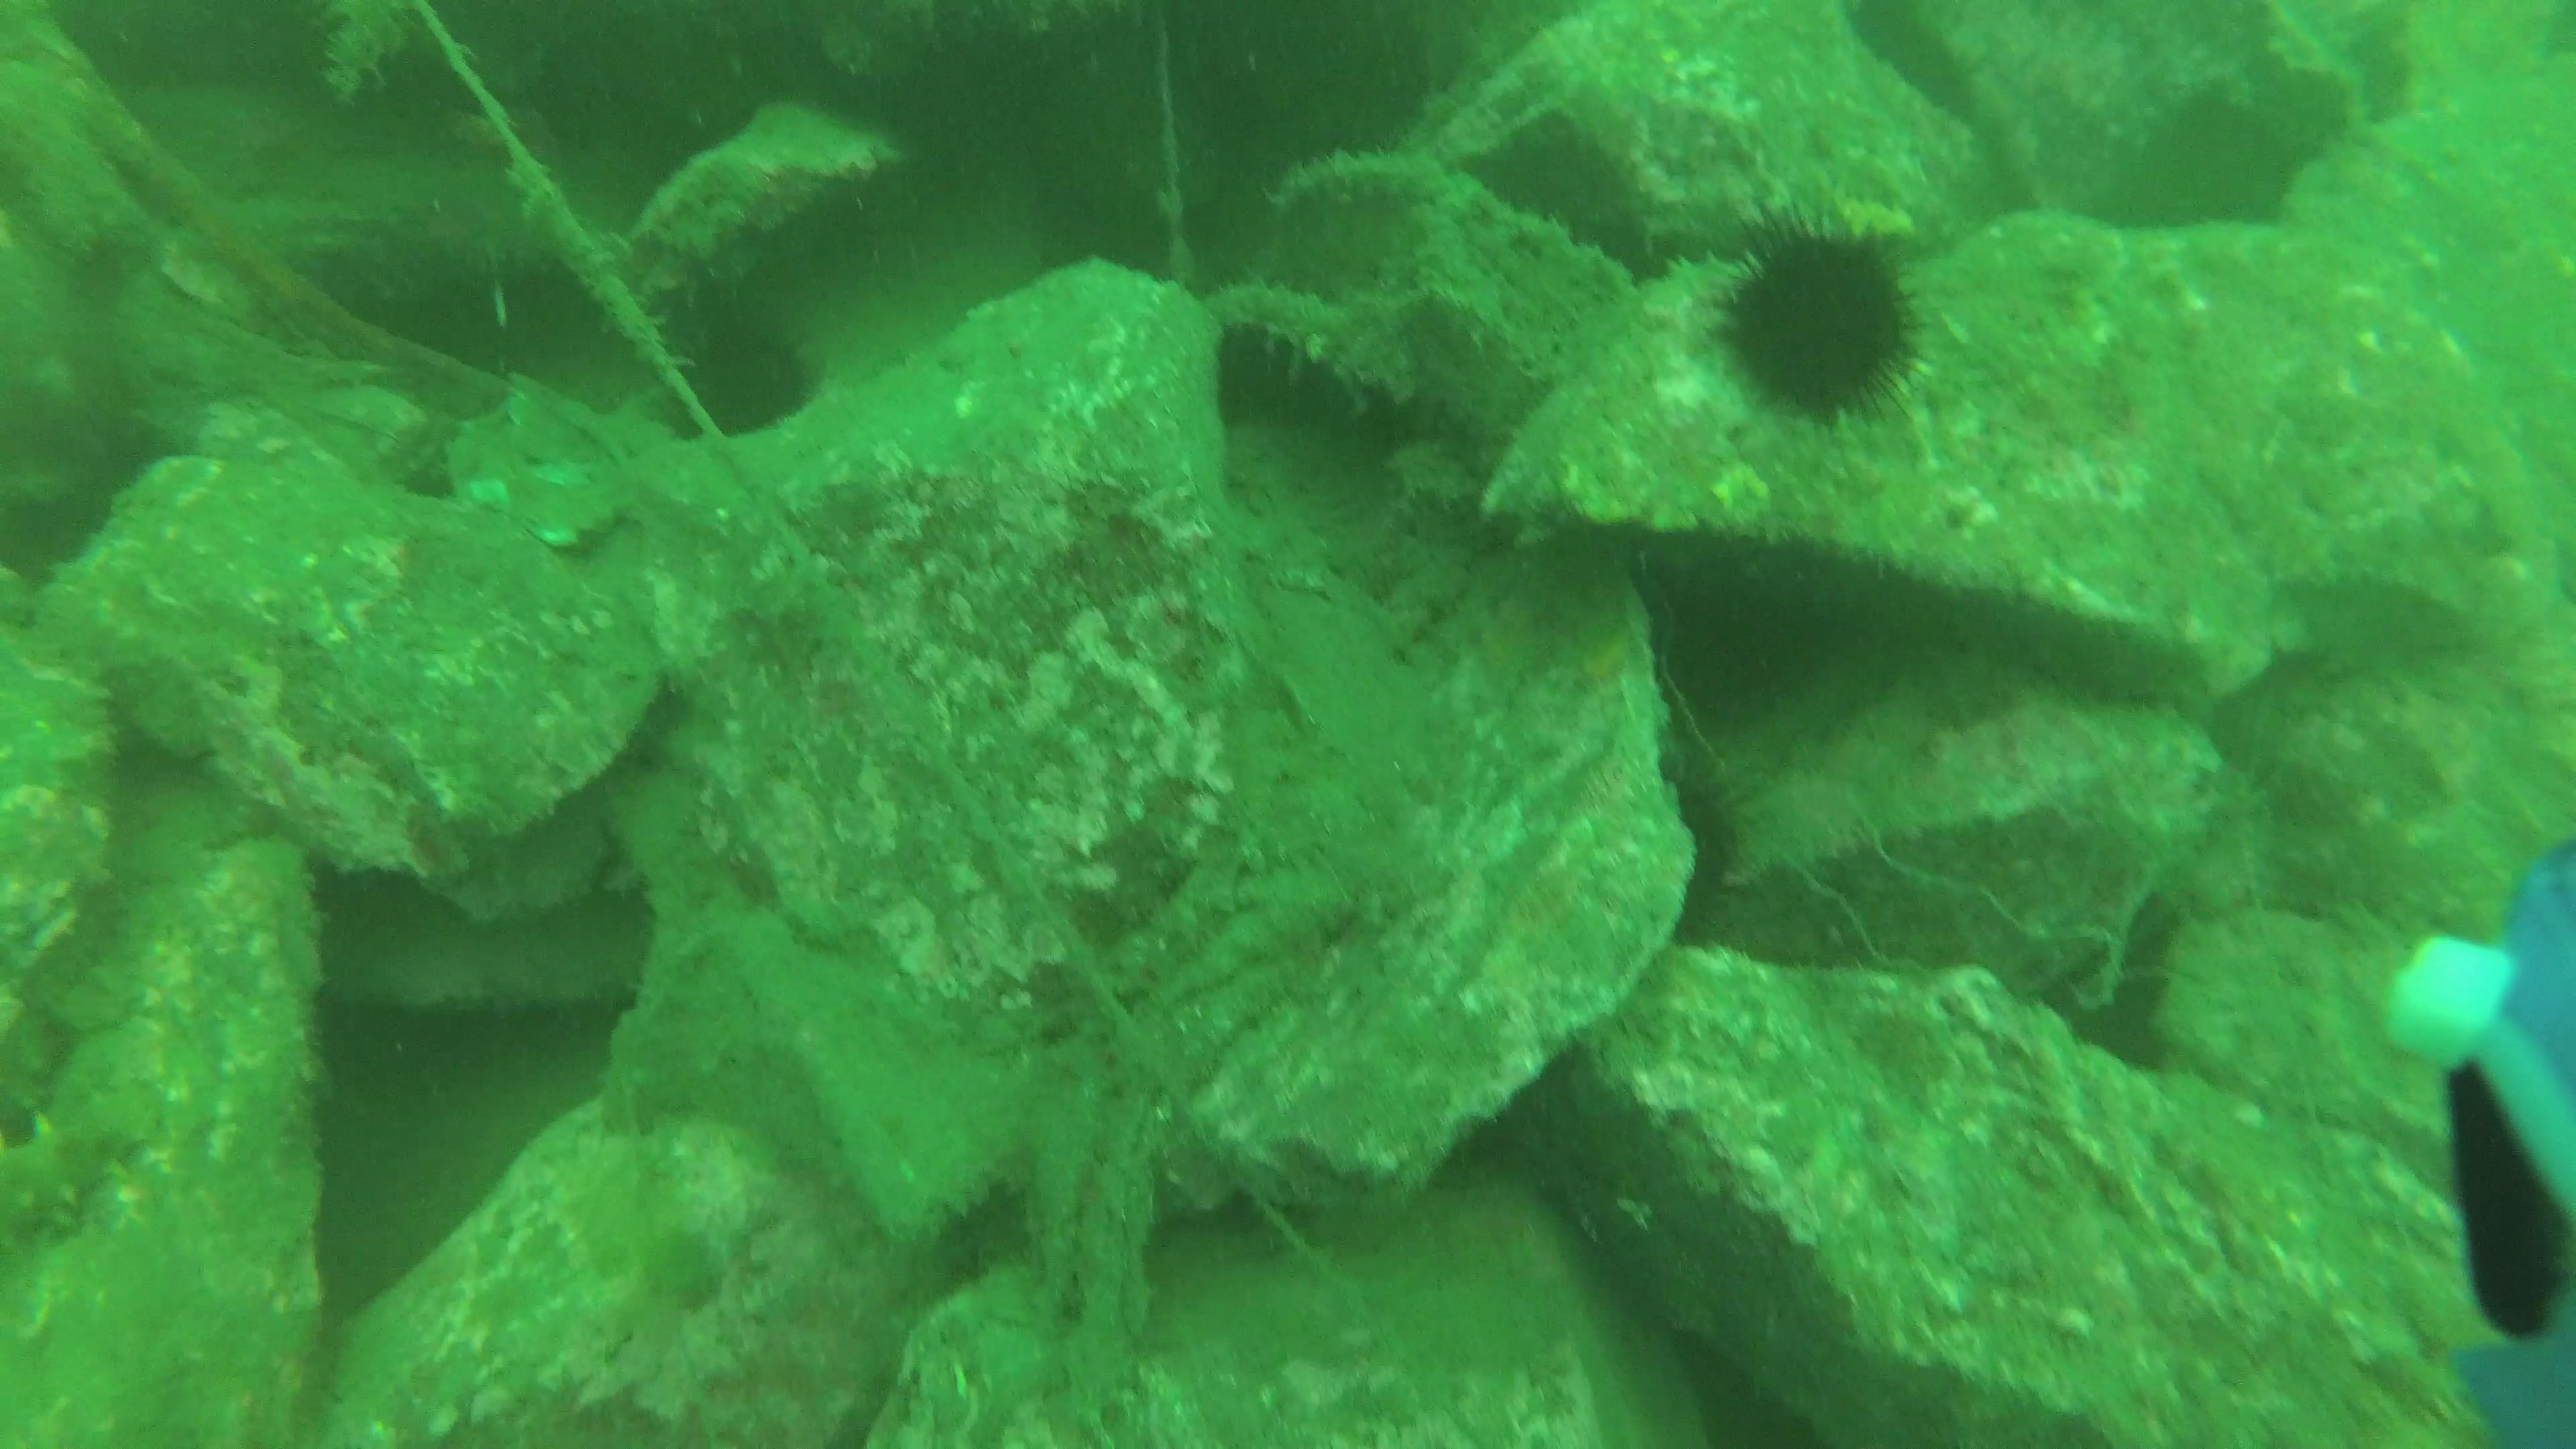echinus: (1702, 207, 1941, 439), (1559, 740, 1762, 954)
holothurian: (0, 1097, 180, 1233)
